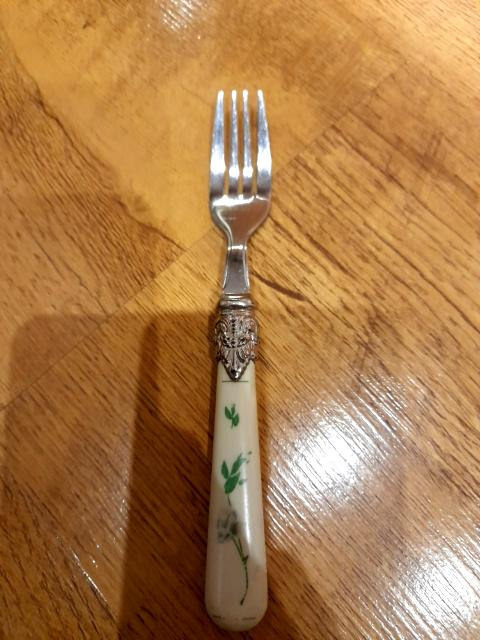Fork: (206, 91, 271, 630)
